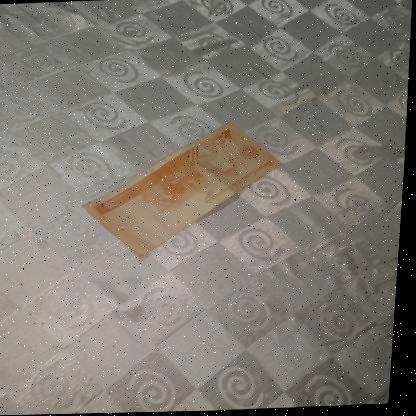twenty-back-vef: (78, 117, 289, 261)
